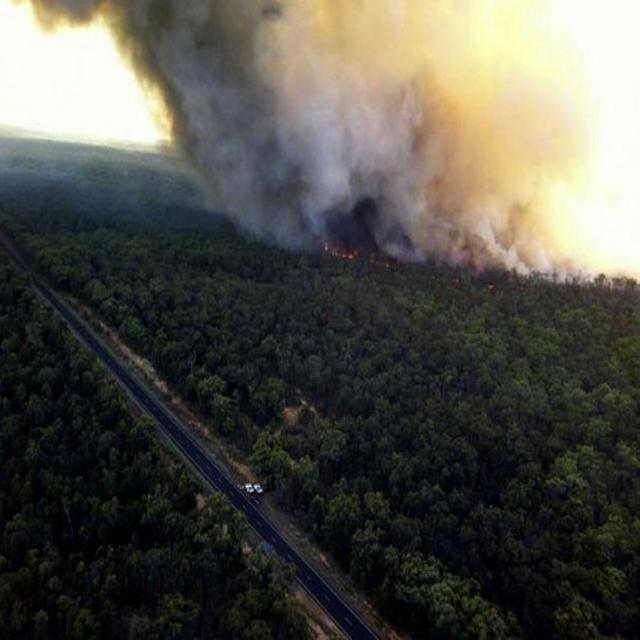Smoke: (146, 0, 570, 281)
